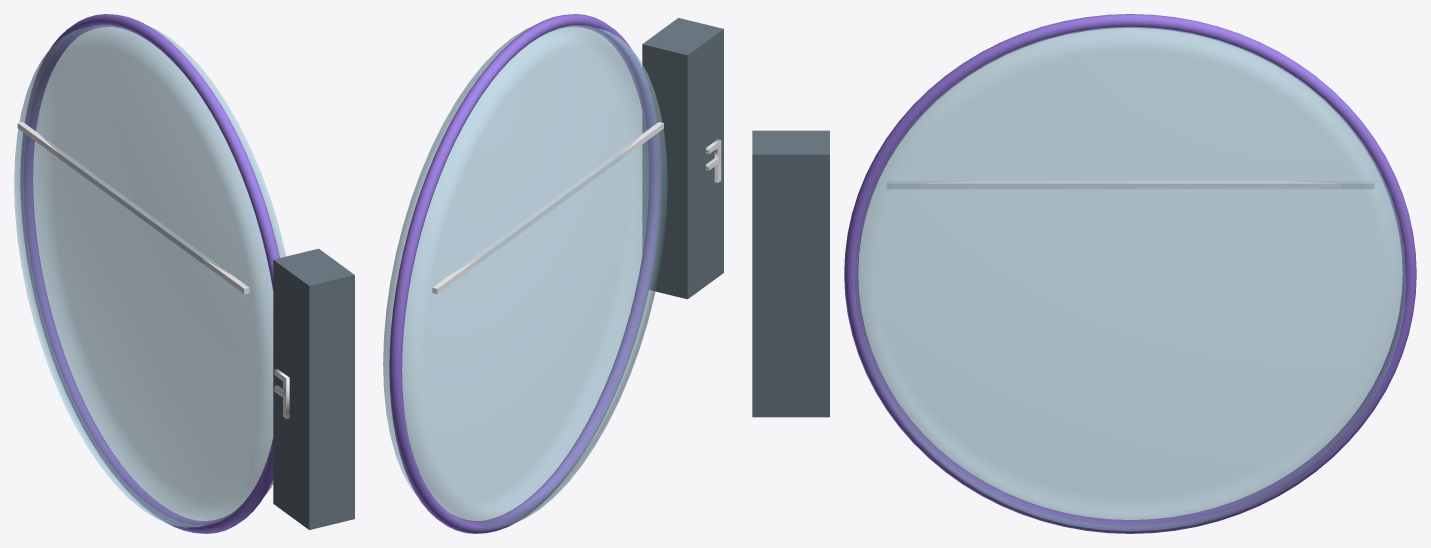
The model's file is sim-eye-f.glb.
3 views of the same model, side by side, from view 1: azimuth 30°, elevation 25°; view 2: azimuth 150°, elevation 25°; view 3: azimuth 270°, elevation 25° (orthographic). The views are drawn at different scales.
Visible parts, largest first — view 1: optical element, insert tab, lens rim, vertical glint, eye label; view 2: optical element, insert tab, lens rim, vertical glint, eye label; view 3: optical element, lens rim, insert tab, vertical glint.
Boxes of the visible parts, x1,y1,x2,y2 form: optical element: (14,25,286,527); insert tab: (273,248,354,529); lens rim: (20,14,279,533); vertical glint: (17,122,249,294); eye label: (274,369,289,418); optical element: (383,25,667,527); insert tab: (642,18,723,299); lens rim: (389,14,661,533); vertical glint: (432,122,663,294); eye label: (706,139,721,182); optical element: (854,27,1405,531); lens rim: (844,14,1416,533); insert tab: (752,130,829,417); vertical glint: (887,181,1373,189).
Bounding box in the file's own units: 0.2325 × 1.62 × 1.88.
